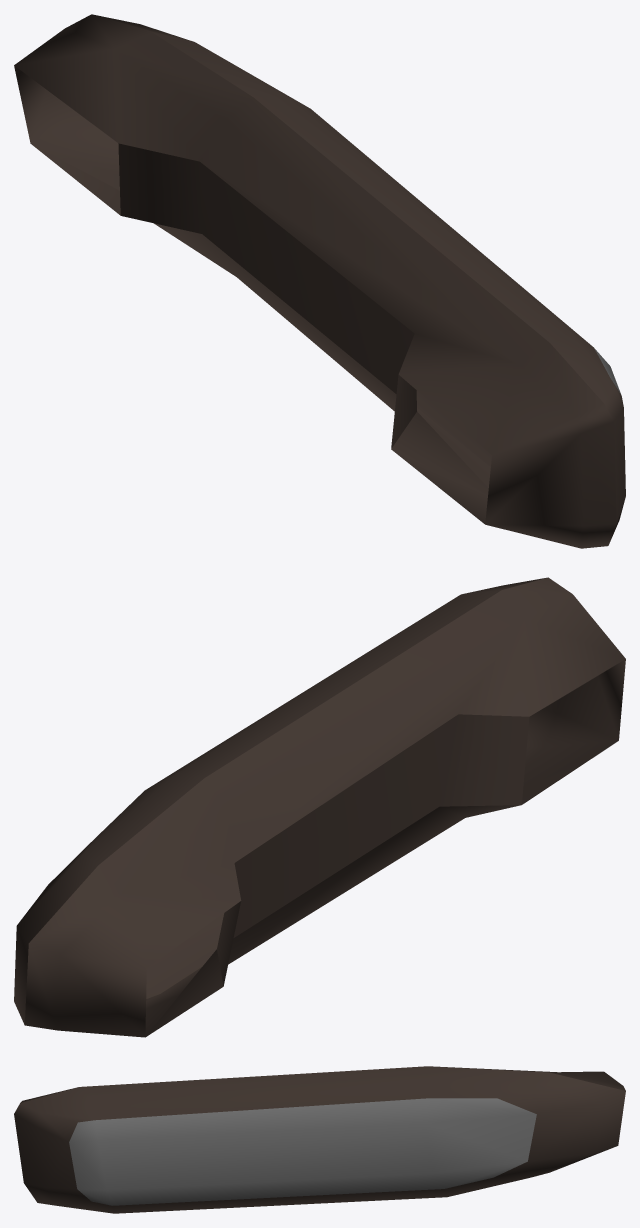
The model's file is Manijita.glb.
3 views of the same model, one above another, from view 1: azimuth 30°, elevation 25°; view 2: azimuth 150°, elevation 25°; view 3: azimuth 270°, elevation 25° (orthographic). The views are drawn at different scales.
Parts seen in each view (by area): view 1: polySurface12.3; view 2: polySurface12.3; view 3: polySurface12.3.
Part boxes in pixels (box(x1,y1,x2,y2)): polySurface12.3: box(14, 14, 625, 548); polySurface12.3: box(14, 577, 625, 1037); polySurface12.3: box(14, 1066, 625, 1213).
Size of the model in its own units: 0.000291 by 0.000349 by 0.00142.
Materials: 2 (2 with a texture image).
